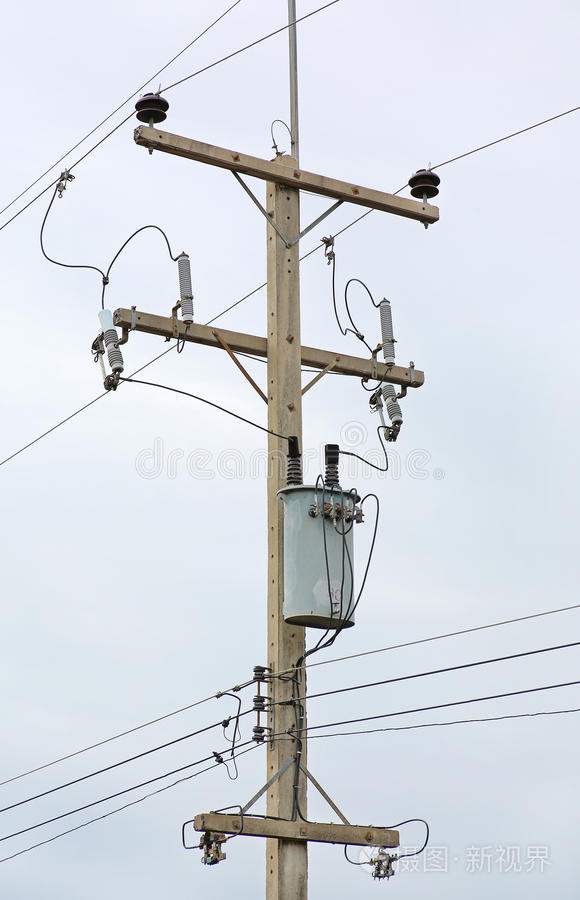insulator: (134, 96, 171, 123), (407, 172, 445, 197)
